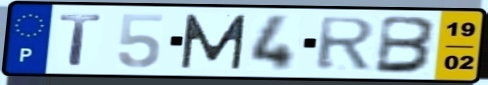4: (246, 12, 301, 73)
5: (115, 12, 167, 70)
B: (372, 14, 441, 75)
M: (178, 13, 249, 71)
R: (314, 16, 379, 72)
T: (57, 12, 105, 67)
